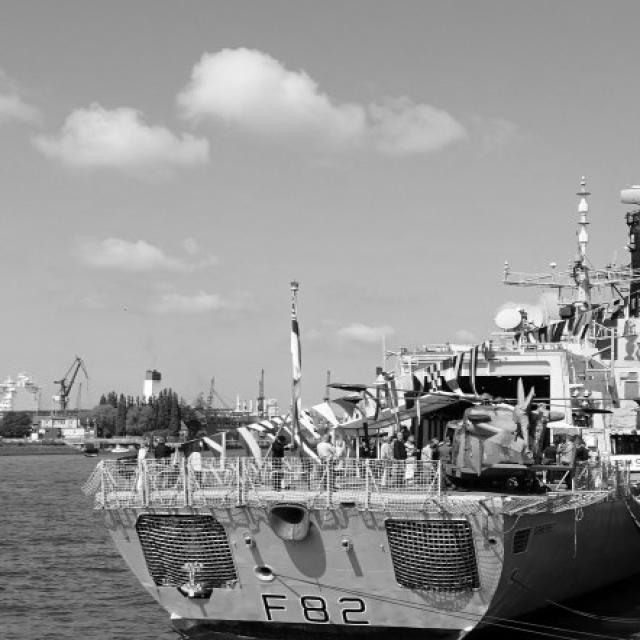Fragata: (89, 174, 640, 640)
